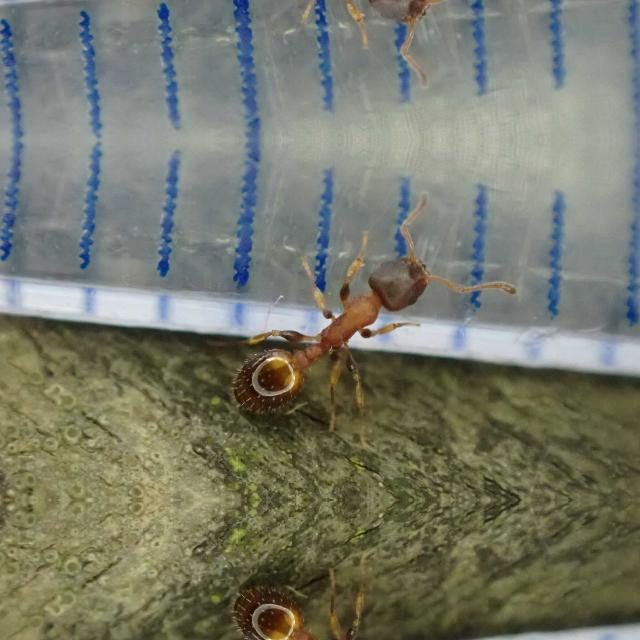Temnothorax: (168, 232, 470, 426), (166, 572, 470, 640), (166, 0, 470, 48)
